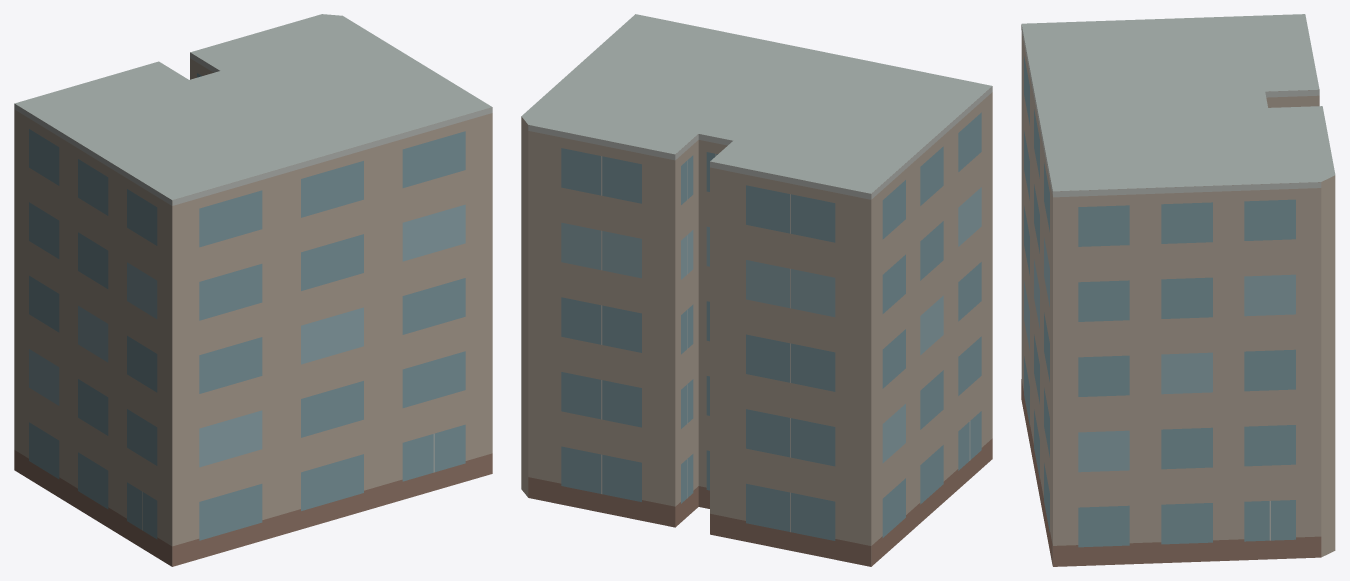
The model's file is survey-upis-32555863.glb.
3 renders of one model, left to right at view 1: azimuth 30°, elevation 25°; view 2: azimuth 150°, elevation 25°; view 3: azimuth 270°, elevation 25°, orthographic. The views are drawn at different scales.
Parts seen in each view (by area): view 1: survey-upis-32555863.tmp; view 2: survey-upis-32555863.tmp; view 3: survey-upis-32555863.tmp.
Part boxes in pixels (left/top/right/bottom): survey-upis-32555863.tmp: left=14, top=14, right=492, bottom=566; survey-upis-32555863.tmp: left=521, top=14, right=992, bottom=566; survey-upis-32555863.tmp: left=1021, top=14, right=1335, bottom=566.
Size of the model in its own units: 15.46 by 15.25 by 11.57.
